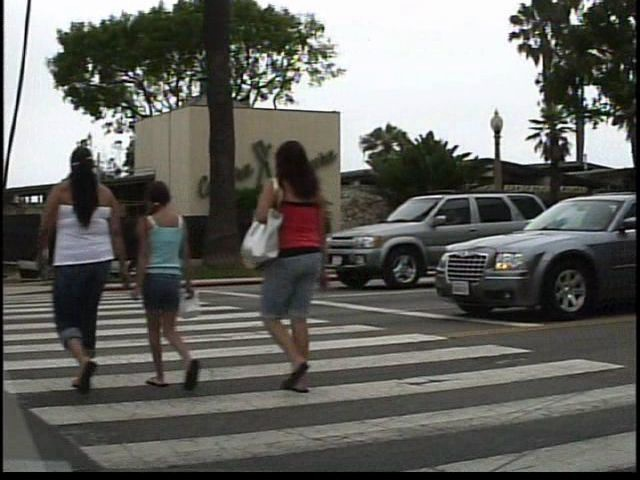person: (255, 134, 362, 402), (63, 141, 160, 401), (145, 176, 219, 400)
